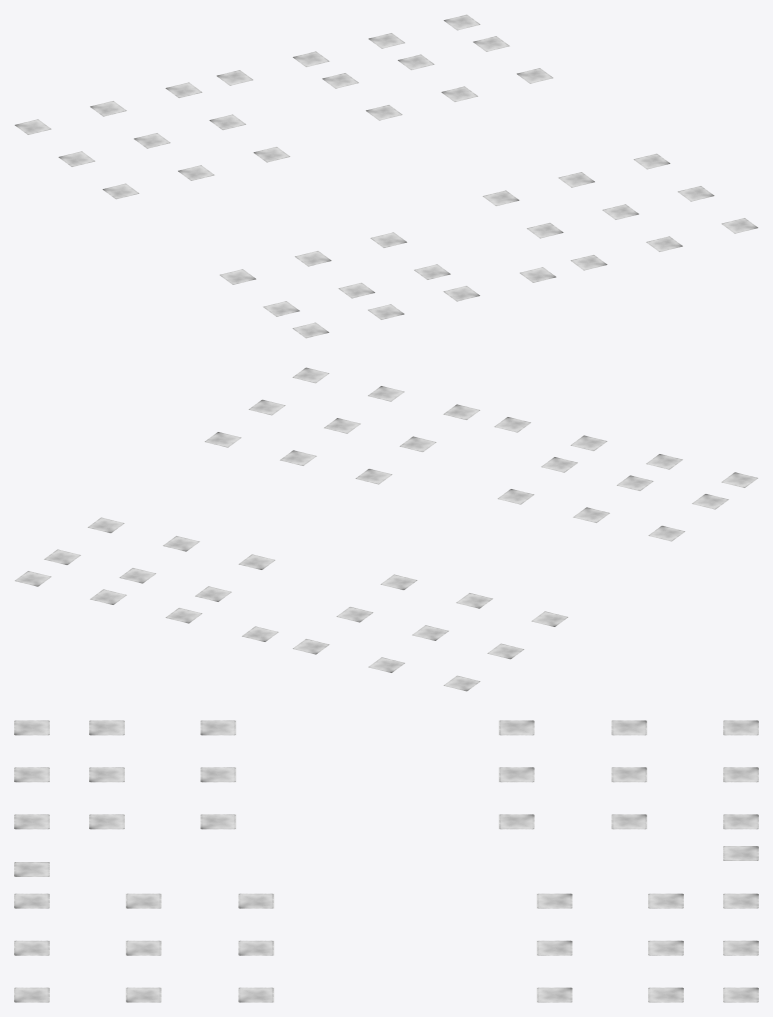
Rendered from SM_Backrooms_00_Lamps_01.fbx.
3 renders of one model, top to bottom at view 1: azimuth 30°, elevation 25°; view 2: azimuth 150°, elevation 25°; view 3: azimuth 270°, elevation 25°, orthographic. The views are drawn at different scales.
Visible parts, largest first — view 1: SM_Backrooms_00_Lamps_01; view 2: SM_Backrooms_00_Lamps_01; view 3: SM_Backrooms_00_Lamps_01.
Part boxes in pixels (x1,y1,x2,y2): SM_Backrooms_00_Lamps_01: (14,14,758,338); SM_Backrooms_00_Lamps_01: (14,367,758,691); SM_Backrooms_00_Lamps_01: (14,720,758,1002).
Bounding box in the file's own units: 4684 × 0 × 5226.
